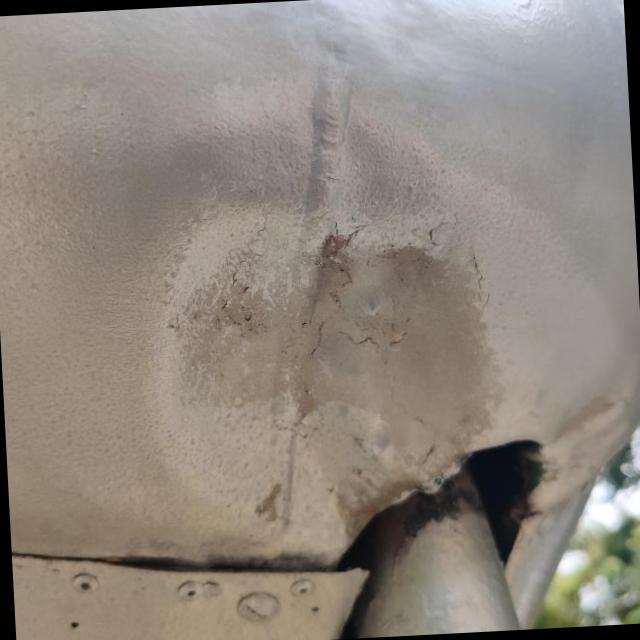Dent: (153, 152, 499, 554), (532, 375, 635, 453)
